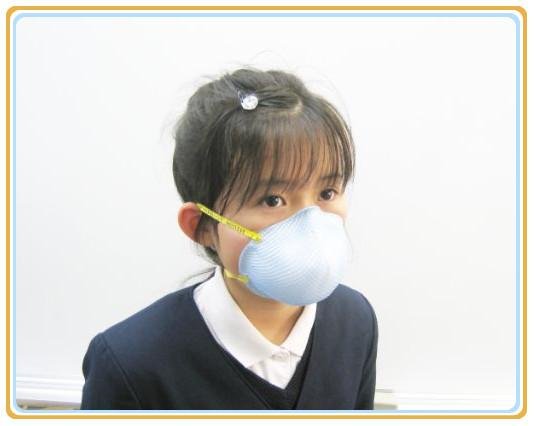OK: (210, 158, 354, 302)
